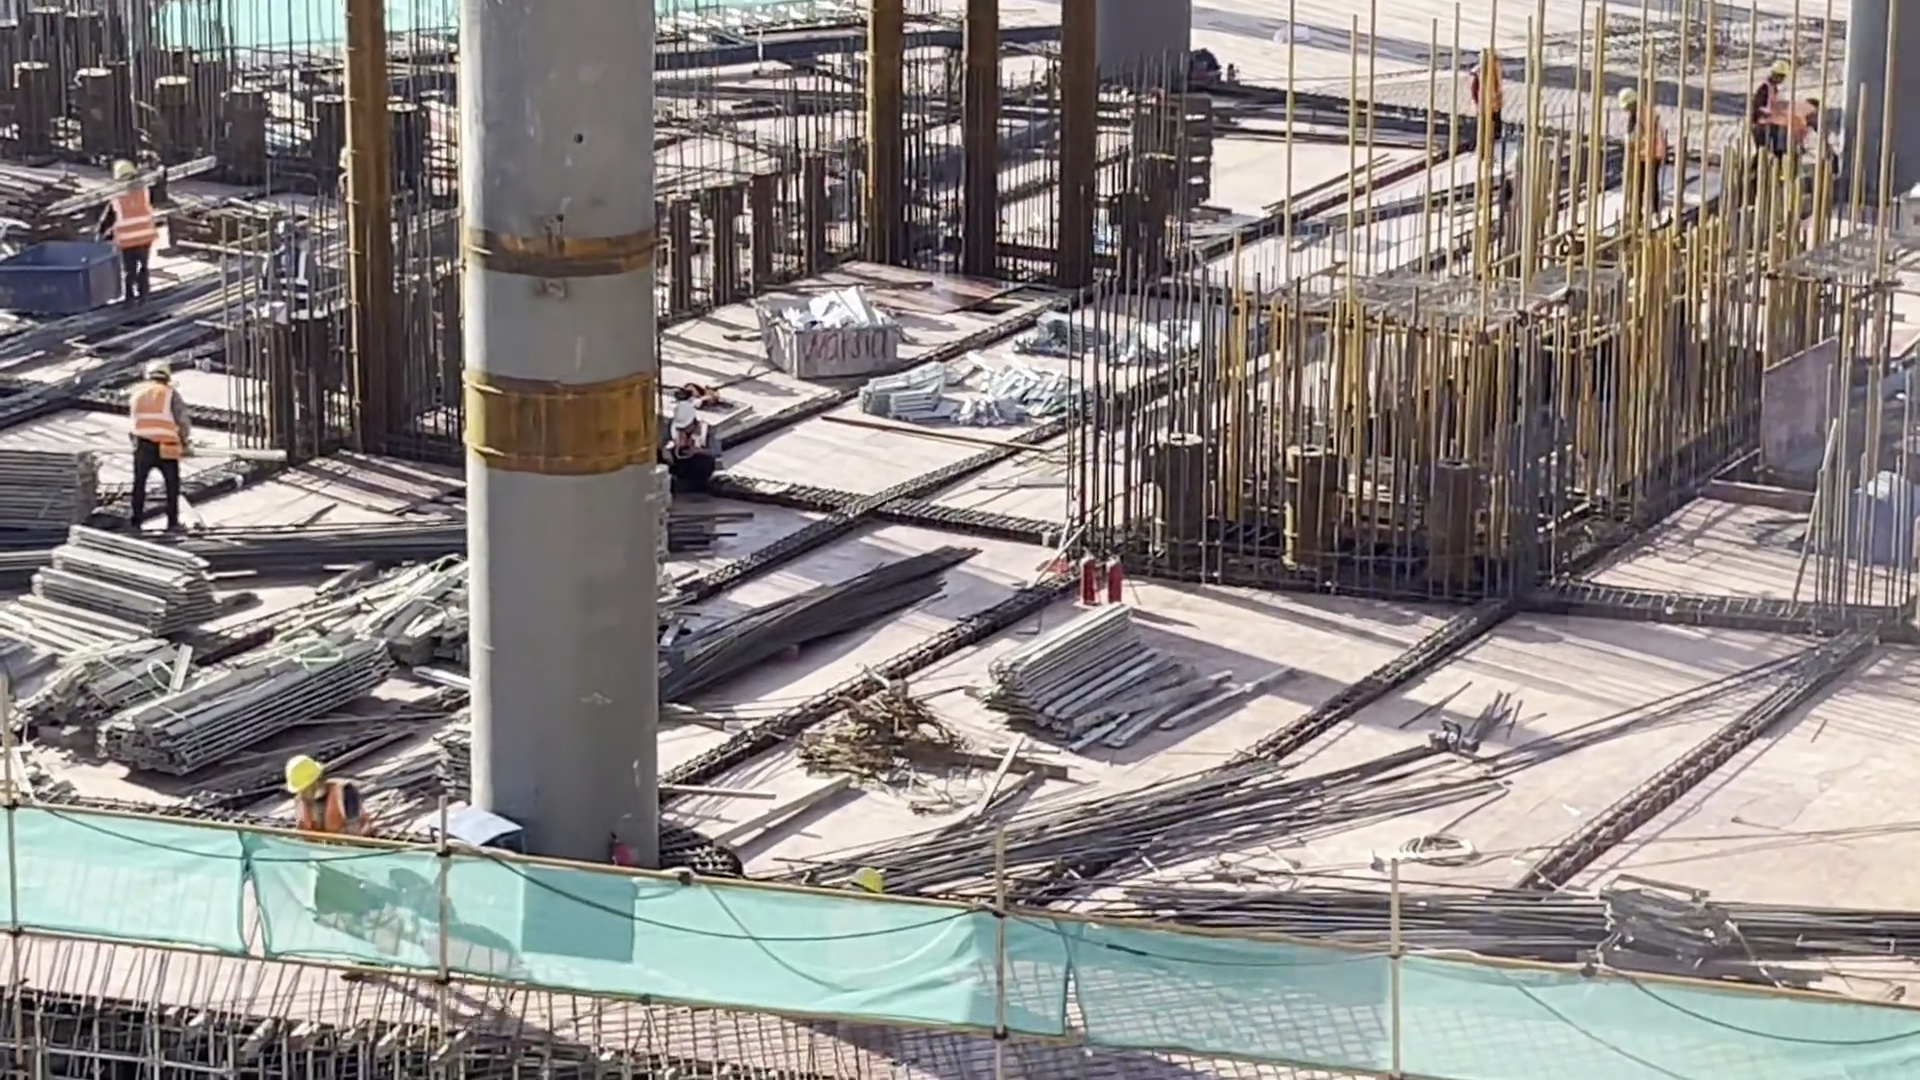helmet: (275, 742, 326, 795), (664, 401, 704, 428), (141, 349, 170, 385), (108, 157, 140, 186)
hopper: (751, 269, 908, 378), (1, 230, 129, 319)
person: (267, 750, 404, 852), (119, 346, 191, 534), (84, 143, 160, 301), (1608, 74, 1684, 206), (652, 386, 734, 494), (1748, 48, 1797, 174)
vest: (292, 774, 363, 853), (123, 380, 185, 457), (96, 197, 160, 253)
wood: (112, 626, 393, 775), (28, 502, 226, 660), (991, 600, 1197, 746), (3, 419, 107, 553)
